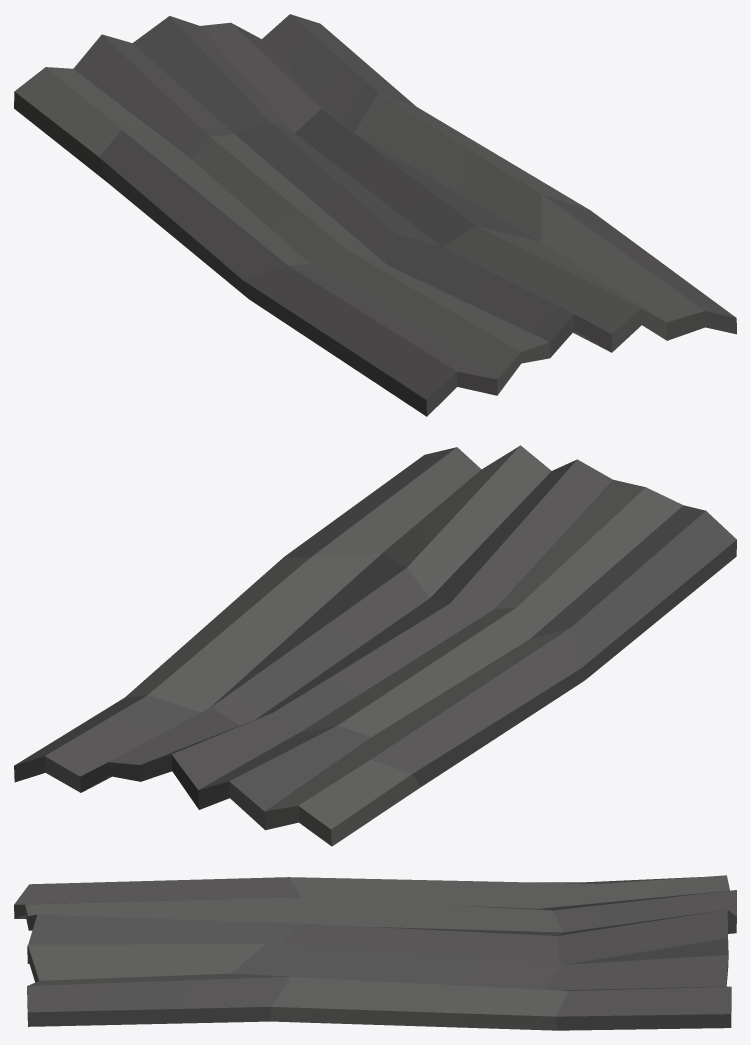
File: SM_Prop_Iron_Sheet_02.obj
3 renders of one model, top to bottom at view 1: azimuth 30°, elevation 25°; view 2: azimuth 150°, elevation 25°; view 3: azimuth 270°, elevation 25°, orthographic. The views are drawn at different scales.
Visible parts, largest first — view 1: SM_Prop_Iron_Sheet_02_0; view 2: SM_Prop_Iron_Sheet_02_0; view 3: SM_Prop_Iron_Sheet_02_0.
Boxes of the visible parts, x1,y1,x2,y2 form: SM_Prop_Iron_Sheet_02_0: [14, 14, 736, 416]; SM_Prop_Iron_Sheet_02_0: [14, 445, 736, 846]; SM_Prop_Iron_Sheet_02_0: [14, 875, 736, 1030].
Size of the model in its own units: 0.7776 by 0.1666 by 1.75.
Materials: 1 (1 with a texture image).
